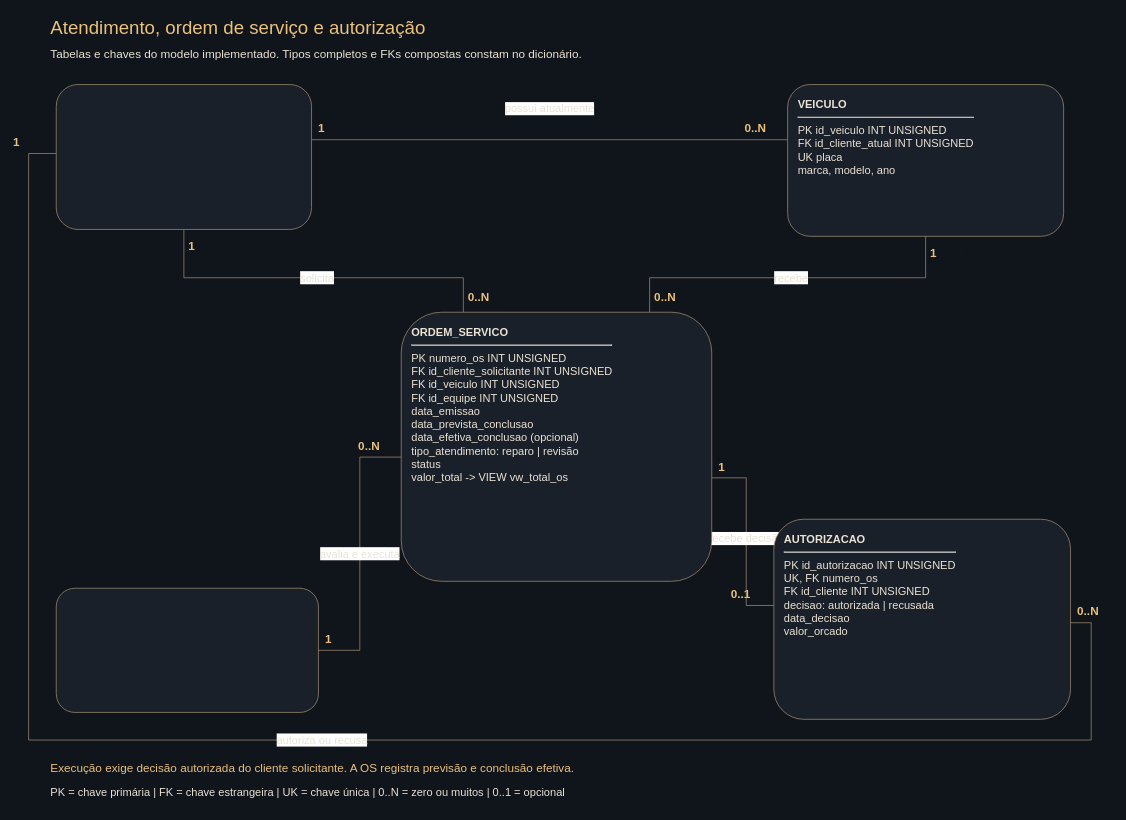
This 1126x820 diagram has some shape labels left out. Each missing label, with the centre of its shape:
"CLIENTE PK id_cliente INT UNSIGNED nome telefone, email endereco" belongs at point (184, 156).
"EQUIPE PK id_equipe INT UNSIGNED nome_equipe" belongs at point (187, 650).
